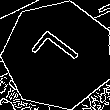L_SE: (28, 27, 88, 83)
